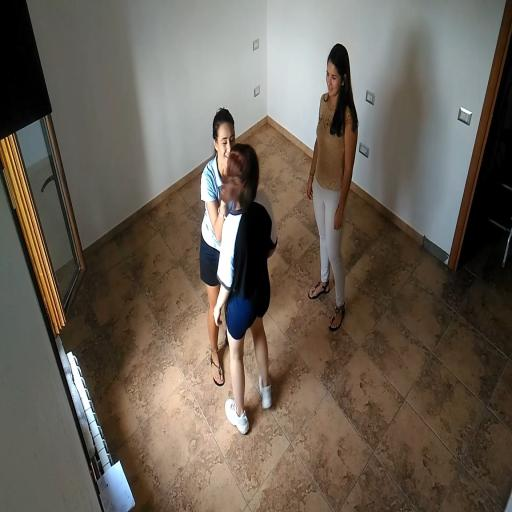nao-violencia: (181, 99, 297, 441)
